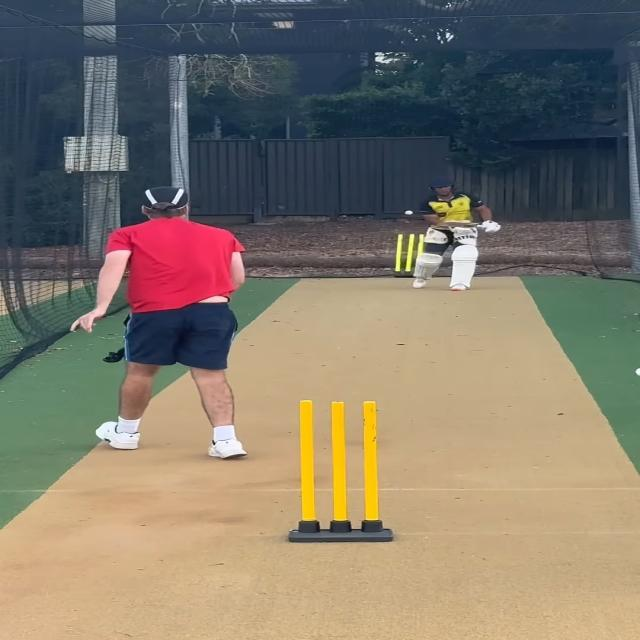stump: (289, 398, 392, 543), (391, 232, 423, 278)
